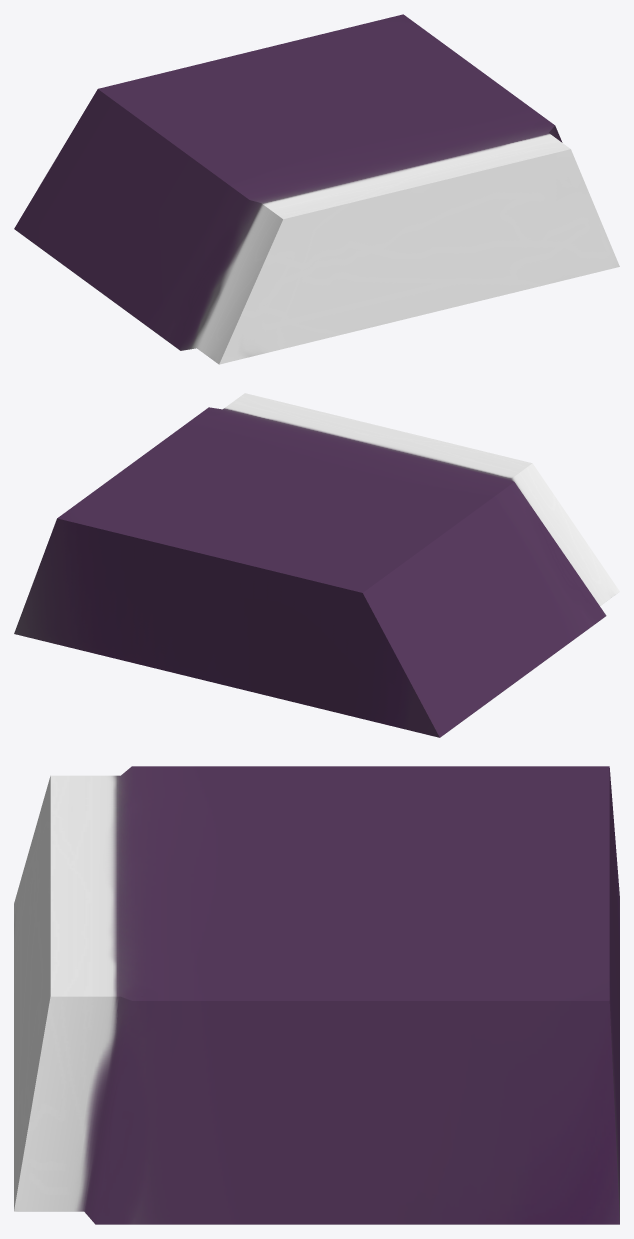
The model's file is pillow_full.fbx.
The picture shows the model from 3 angles, top to bottom: view 1: azimuth 30°, elevation 25°; view 2: azimuth 150°, elevation 25°; view 3: azimuth 270°, elevation 25°; orthographic projection. The views are drawn at different scales.
Parts seen in each view (by area): view 1: pCube1; view 2: pCube1; view 3: pCube1.
Boxes of the visible parts, box(x1,y1,x2,y2) form: pCube1: box(14, 14, 619, 364); pCube1: box(14, 393, 619, 737); pCube1: box(14, 766, 619, 1224).
Size of the model in its own units: 4.09 by 1.13 by 3.2.
Materials: 1 (1 with a texture image).
